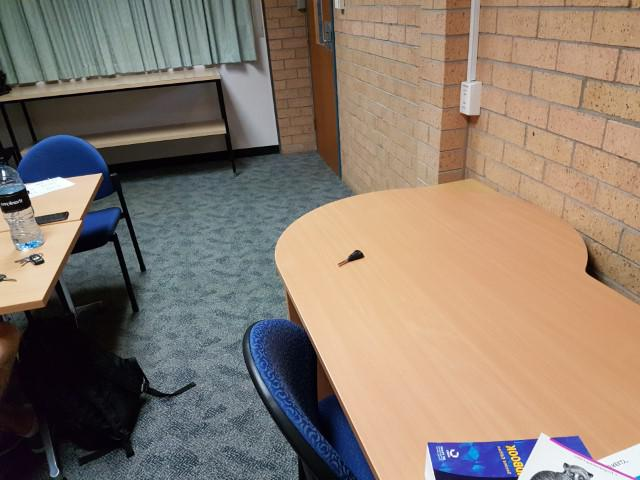key: (338, 250, 365, 266)
